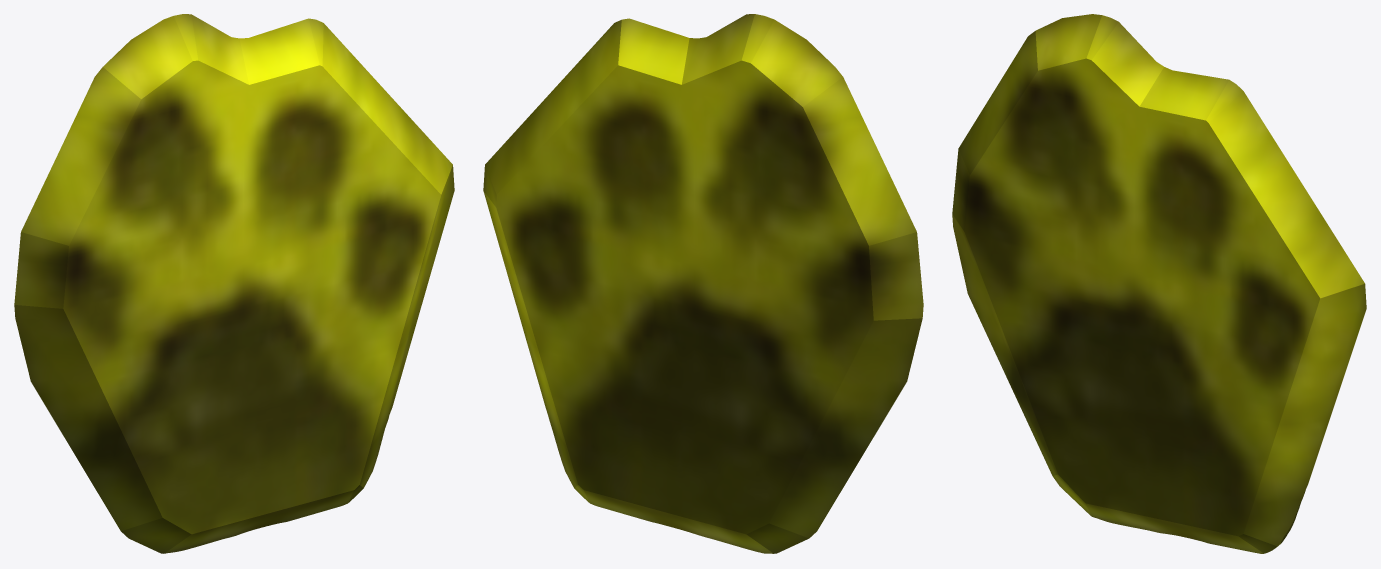
File: PatouneLowPoly.obj
3 views of the same model, side by side, from view 1: azimuth 30°, elevation 25°; view 2: azimuth 150°, elevation 25°; view 3: azimuth 330°, elevation 25° (orthographic). The views are drawn at different scales.
Parts seen in each view (by area): view 1: Patoune; view 2: Patoune; view 3: Patoune.
Part boxes in pixels (x1=…): Patoune: x1=14, y1=14, x2=454, y2=553; Patoune: x1=483, y1=14, x2=923, y2=553; Patoune: x1=952, y1=14, x2=1366, y2=553.
Size of the model in its own units: 0.0141 by 0.0165 by 0.002.
